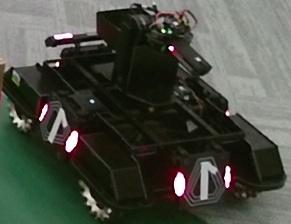armor_1: (40, 104, 79, 153), (174, 166, 231, 196)
front_1: (186, 156, 226, 206)
right_1: (40, 101, 71, 146)
